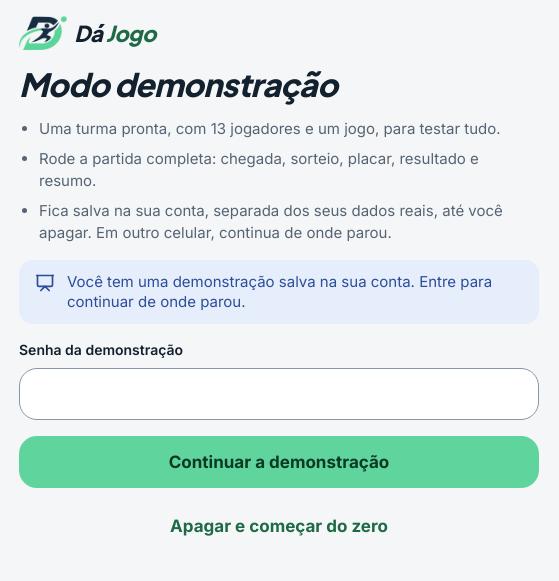
Test: Modo demonstração › /demo pede a senha: errada avisa, certa liga a demonstração da conta
The width and height of the screenshot is (559, 581).
Later steps or results of the test are not shown.
Expected: the heading "Modo demonstração" is shown, top-left (19, 64), bottom-right (337, 104)
a conta já tem demo salva: continua de onde parou
Type "errada" into the password field labelled "Senha da demonstração" at [279, 394], box top-left (19, 368), bottom-right (539, 420)
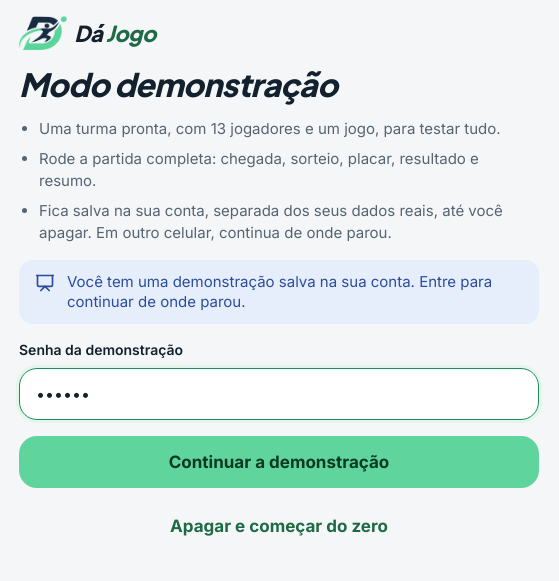
Click the button "Continuar a demonstração" at [279, 462], box top-left (19, 436), bottom-right (539, 488)
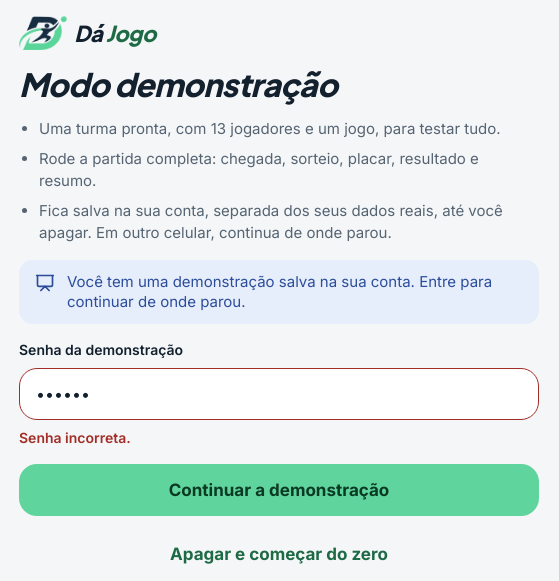
Expected: the text "Senha incorreta." is shown, top-left (19, 429), bottom-right (131, 446)
